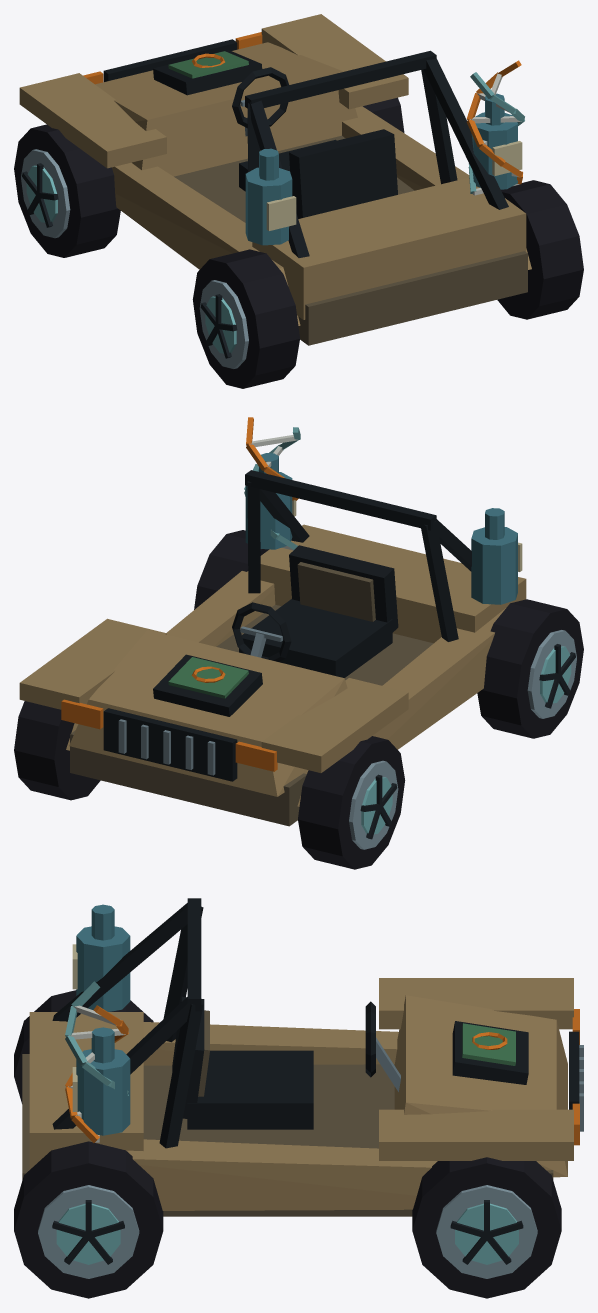
Rendered from kart.glb.
3 views of the same model, one above another, from view 1: azimuth 30°, elevation 25°; view 2: azimuth 150°, elevation 25°; view 3: azimuth 270°, elevation 25° (orthographic). The views are drawn at different scales.
Parts seen in each view (by area): view 1: identity-jeep-jeep-offroad-frame, wheel-rear-left, wheel-front-left, identity-jeep-driver-cockpit, wheel-rear-right, identity-jeep-motif-bottles, identity-jeep-motif-scanner, identity-jeep-motif-dna, wheel-front-right; view 2: identity-jeep-jeep-offroad-frame, identity-jeep-driver-cockpit, wheel-rear-left, wheel-front-left, identity-jeep-motif-bottles, wheel-front-right, identity-jeep-motif-scanner, wheel-rear-right, identity-jeep-motif-dna; view 3: identity-jeep-jeep-offroad-frame, wheel-rear-right, wheel-front-right, identity-jeep-driver-cockpit, identity-jeep-motif-bottles, identity-jeep-motif-scanner, identity-jeep-motif-dna, wheel-rear-left.
Boxes of the visible parts, x1,y1,x2,y2 form: identity-jeep-jeep-offroad-frame: (19, 14, 531, 345); wheel-rear-left: (192, 249, 299, 388); wheel-front-left: (14, 124, 120, 257); identity-jeep-driver-cockpit: (232, 67, 397, 218); wheel-rear-right: (497, 180, 583, 319); identity-jeep-motif-bottles: (245, 93, 522, 245); identity-jeep-motif-scanner: (153, 50, 262, 95); identity-jeep-motif-dna: (466, 60, 524, 195); wheel-front-right: (363, 97, 404, 132); identity-jeep-jeep-offroad-frame: (19, 470, 526, 826); identity-jeep-driver-cockpit: (232, 545, 398, 677); wheel-rear-left: (477, 599, 583, 738); wheel-front-left: (298, 736, 405, 869); identity-jeep-motif-bottles: (245, 453, 522, 604); wheel-front-right: (14, 701, 100, 800); identity-jeep-motif-scanner: (153, 654, 262, 716); wheel-rear-right: (194, 530, 269, 609); identity-jeep-motif-dna: (244, 417, 300, 550); identity-jeep-jeep-offroad-frame: (22, 898, 583, 1216); wheel-rear-right: (14, 1141, 163, 1298); wheel-front-right: (412, 1157, 561, 1298); identity-jeep-driver-cockpit: (172, 996, 400, 1129); identity-jeep-motif-bottles: (72, 904, 130, 1135); identity-jeep-motif-scanner: (452, 1021, 528, 1084); identity-jeep-motif-dna: (65, 981, 128, 1142); wheel-rear-left: (14, 990, 153, 1103).
Size of the model in its own units: 2.13 by 1.47 by 2.75.
